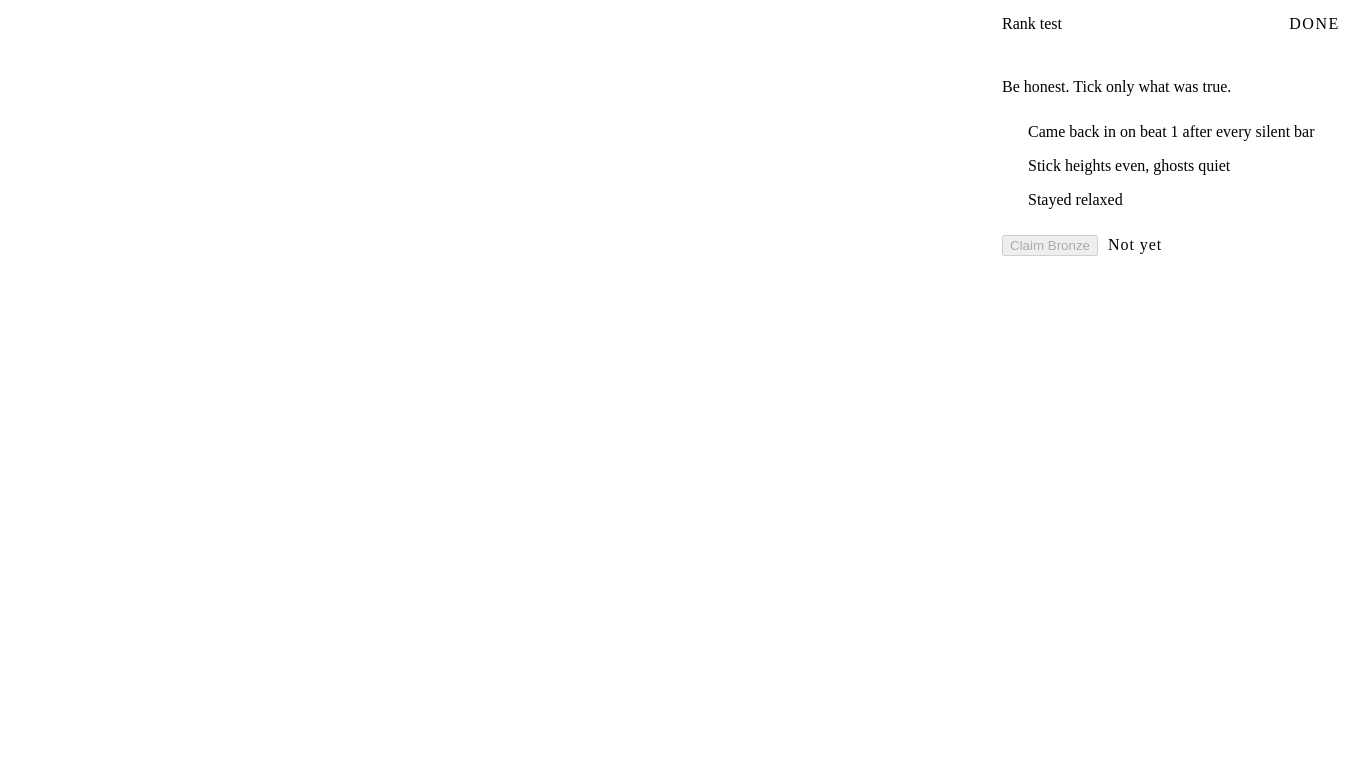
Scenario: RankTestSheet › claim is enabled only when every item is ticked
The image size is (1366, 768).
Earlier steps of the test are not shown.
Later steps or results of the test are not shown.
Expected: the button "Claim Bronze" is disabled, [1002,235,1098,256]
Click the checkbox labelled "Came back in on beat 1 after every silent bar" at (1171, 132), box [1028,123,1314,140]
Click the checkbox labelled "Stick heights even, ghosts quiet" at (1129, 166), box [1028,157,1230,174]
Click the checkbox labelled "Stayed relaxed" at (1075, 200), box [1028,191,1123,208]
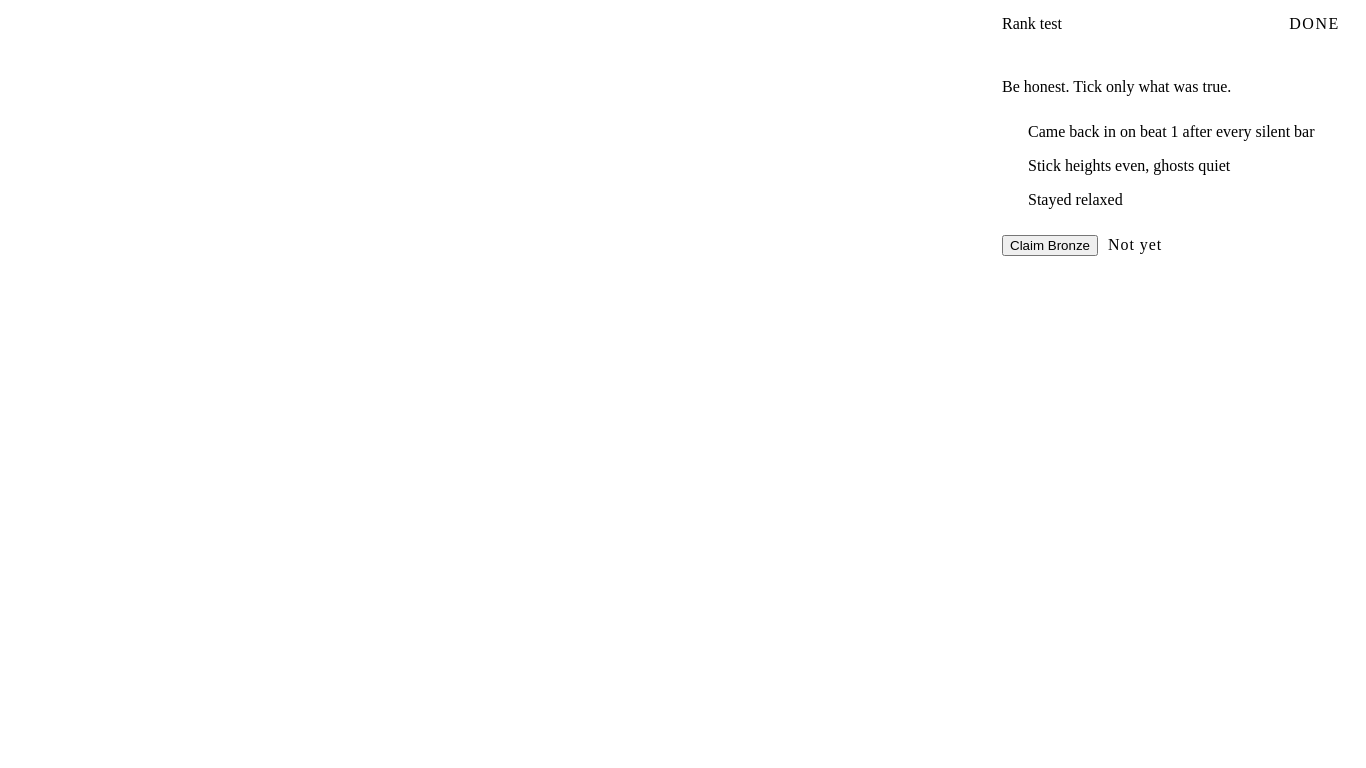
Expected: the button "Claim Bronze" is enabled, [1002,235,1098,256]
